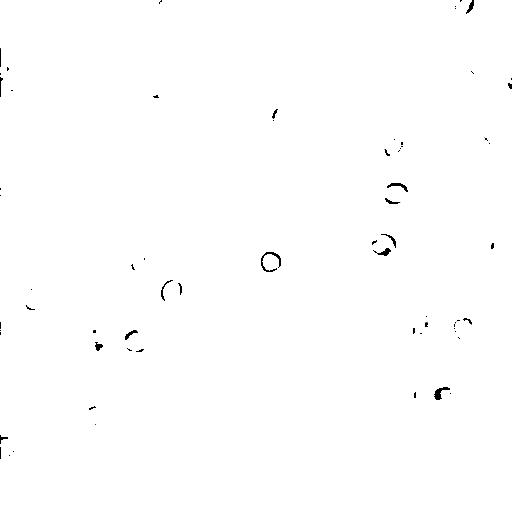micro-algae: (320, 234, 381, 292), (97, 339, 138, 380), (6, 313, 45, 353), (479, 226, 512, 269), (62, 332, 97, 371), (96, 273, 134, 306), (23, 458, 51, 494), (461, 130, 493, 161), (350, 471, 385, 499), (347, 148, 381, 173), (0, 67, 26, 99), (122, 326, 150, 355), (381, 180, 411, 207), (271, 104, 297, 135), (159, 277, 185, 306), (80, 403, 111, 426), (13, 24, 41, 48), (454, 66, 479, 92), (371, 234, 399, 257), (451, 312, 474, 340), (128, 249, 150, 276), (154, 0, 181, 21), (260, 250, 283, 274), (384, 136, 406, 161), (92, 323, 114, 348), (23, 287, 44, 311), (426, 306, 448, 328), (416, 378, 434, 404), (1, 435, 18, 459), (453, 0, 476, 17), (411, 315, 429, 336), (435, 386, 456, 402), (1, 61, 8, 78), (506, 75, 512, 91)
